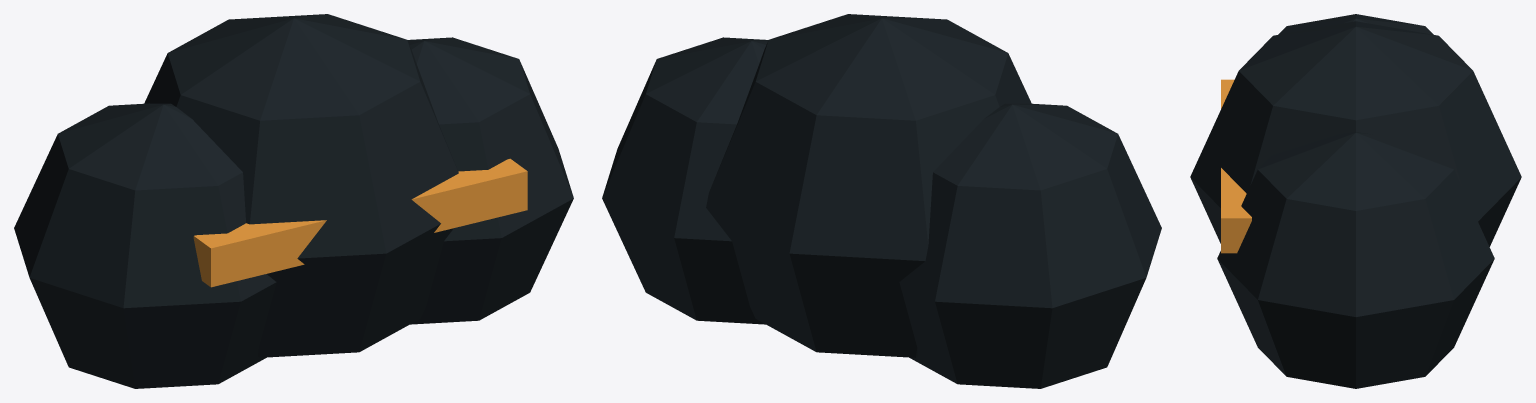
File: raw_morrow_composite.glb
The picture shows the model from 3 angles, left to right: view 1: azimuth 30°, elevation 25°; view 2: azimuth 150°, elevation 25°; view 3: azimuth 270°, elevation 25°; orthographic projection. The views are drawn at different scales.
Visible parts, largest first — view 1: UnrefinedComposite.001, UnrefinedComposite, UnrefinedComposite.002, OreSeam; view 2: UnrefinedComposite.001, UnrefinedComposite, UnrefinedComposite.002; view 3: UnrefinedComposite.002, UnrefinedComposite.001, OreSeam, UnrefinedComposite.
Boxes of the visible parts, x1=… form: UnrefinedComposite.001: x1=144, y1=14, x2=458, y2=357; UnrefinedComposite: x1=14, y1=103, x2=276, y2=388; UnrefinedComposite.002: x1=407, y1=37, x2=573, y2=324; OreSeam: x1=193, y1=158, x2=527, y2=287; UnrefinedComposite.001: x1=706, y1=14, x2=1031, y2=357; UnrefinedComposite: x1=899, y1=103, x2=1161, y2=388; UnrefinedComposite.002: x1=602, y1=37, x2=768, y2=324; UnrefinedComposite.002: x1=1217, y1=132, x2=1494, y2=388; UnrefinedComposite.001: x1=1190, y1=21, x2=1521, y2=246; OreSeam: x1=1221, y1=79, x2=1251, y2=253; UnrefinedComposite: x1=1278, y1=14, x2=1433, y2=34.
Bounding box in the file's own units: 1.42 × 0.86 × 0.86.
